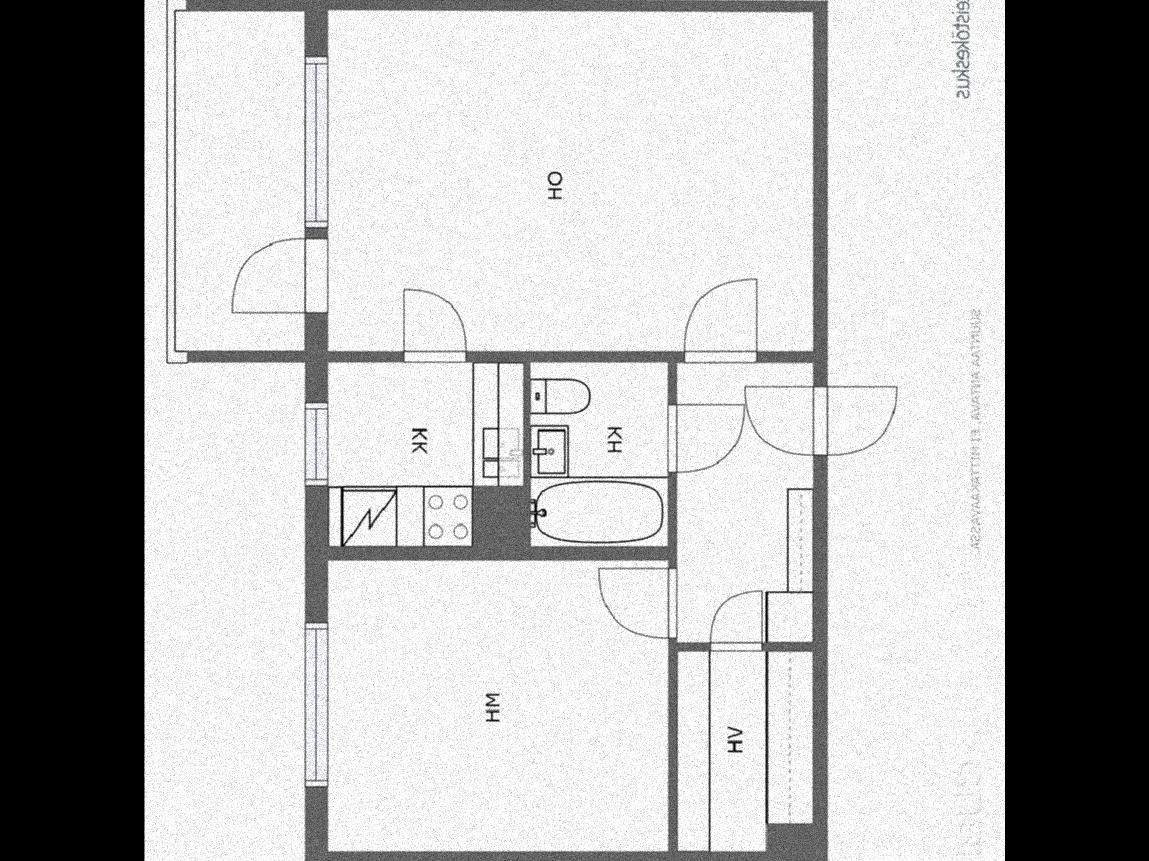door: (737, 373, 905, 457), (219, 235, 330, 319), (590, 559, 686, 649), (685, 268, 767, 367), (668, 391, 752, 474), (398, 287, 468, 360), (704, 585, 761, 652)
window: (297, 623, 329, 789), (302, 56, 330, 228), (300, 407, 329, 483)
zone: (331, 10, 813, 349), (325, 557, 672, 852), (170, 9, 303, 348), (672, 361, 814, 639), (330, 361, 524, 549), (523, 359, 668, 552), (677, 652, 810, 857)
